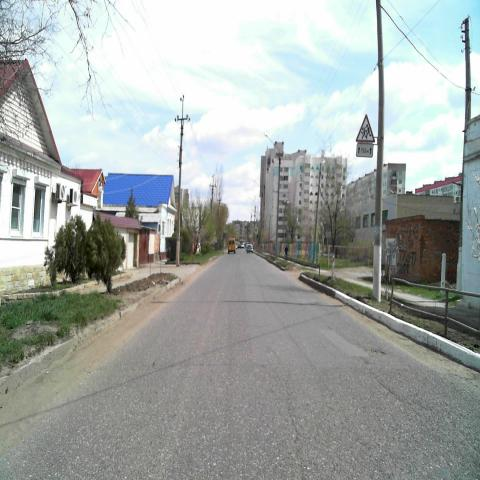8_2_1: (356, 141, 374, 158)
